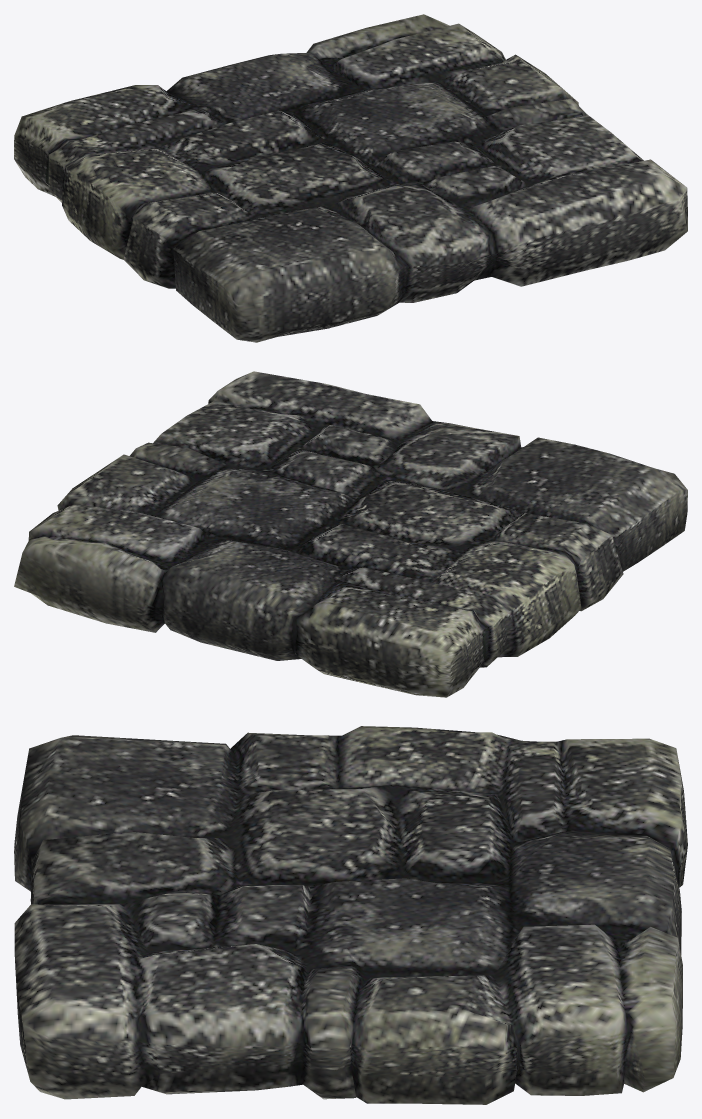
File: Stone Wall.FBX
The picture shows the model from 3 angles, top to bottom: view 1: azimuth 30°, elevation 25°; view 2: azimuth 150°, elevation 25°; view 3: azimuth 270°, elevation 25°; orthographic projection. The views are drawn at different scales.
Parts seen in each view (by area): view 1: Stone Wall; view 2: Stone Wall; view 3: Stone Wall.
Part boxes in pixels (<box>): Stone Wall: <box>14,14,687,342</box>; Stone Wall: <box>14,371,687,697</box>; Stone Wall: <box>14,726,687,1104</box>.
Size of the model in its own units: 148 by 137 by 22.77.
Materials: 1 (1 with a texture image).
